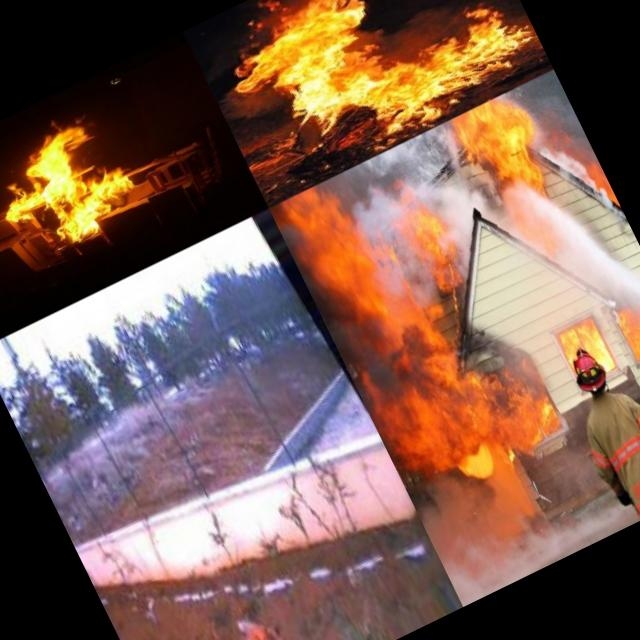fire: (278, 167, 496, 497), (195, 0, 534, 195), (0, 101, 151, 270), (461, 358, 574, 476), (453, 88, 557, 207), (390, 186, 468, 298), (418, 294, 483, 394), (201, 608, 302, 640), (576, 318, 615, 375), (612, 304, 640, 368), (554, 326, 586, 361)
smoke: (436, 472, 625, 606), (398, 119, 508, 261), (339, 177, 442, 315), (516, 68, 594, 171), (412, 467, 507, 549), (352, 145, 419, 211)
